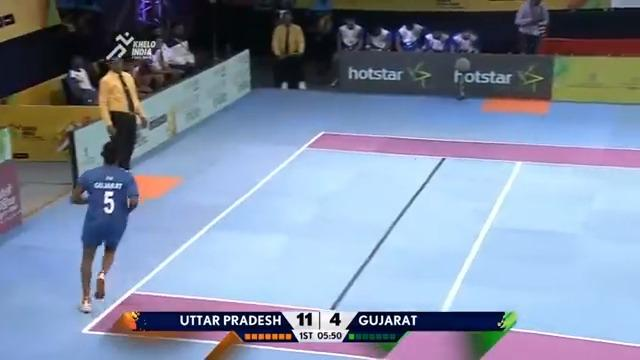Player: (70, 139, 139, 313), (513, 0, 549, 54), (394, 20, 427, 51), (364, 21, 392, 51)
referee: (97, 49, 148, 171), (270, 9, 306, 89)
